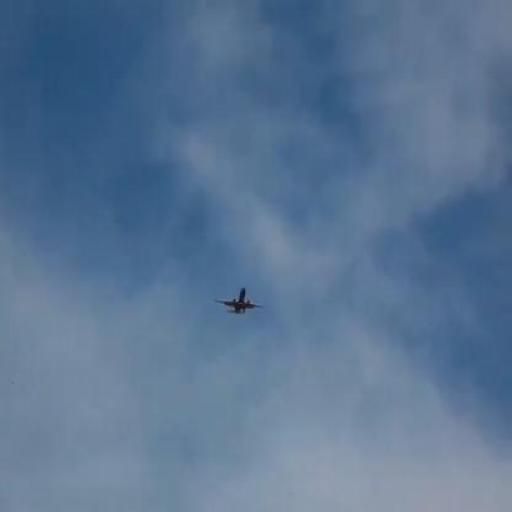aircraft: (214, 287, 265, 315)
